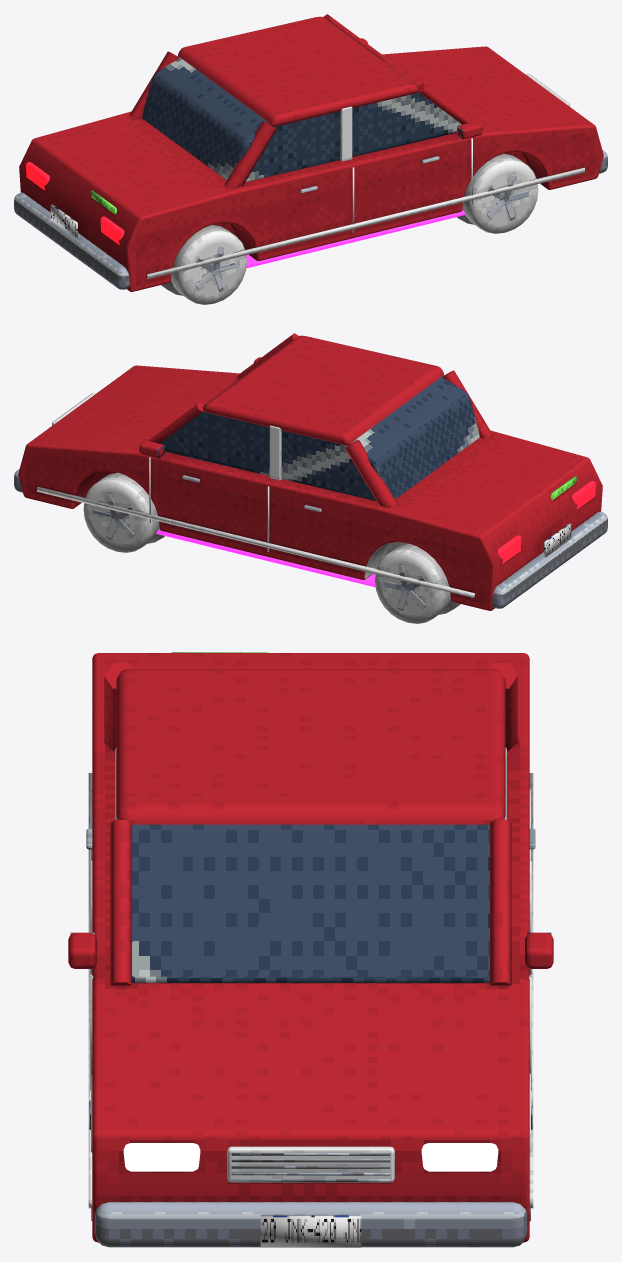
Rendered from p_car.glb.
3 views of the same model, one above another, from view 1: azimuth 30°, elevation 25°; view 2: azimuth 150°, elevation 25°; view 3: azimuth 270°, elevation 25° (orthographic). The views are drawn at different scales.
Visible parts, largest first — view 1: car; view 2: car; view 3: car.
Boxes of the visible parts, <box> form: car: <box>14,14,607,304</box>; car: <box>14,333,607,623</box>; car: <box>68,652,553,1247</box>.
Bounding box in the file's own units: 4.76 × 1.57 × 2.02.
Materials: 11 (11 with a texture image).
